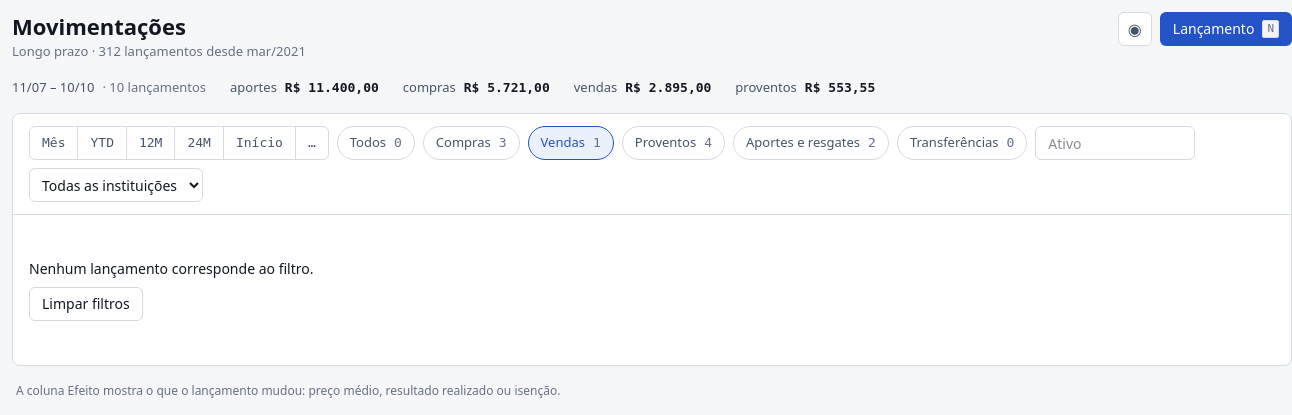
Test case: tela de Movimentações › recorte vazio por filtro oferece limpar; vazio sem filtro não
This screenshot has width=1292, height=415.
Expected: the text "Nenhum lançamento corresponde ao filtro." is shown, [29, 259, 314, 279]
Click the button "Limpar filtros": (86, 304) [29, 287, 143, 321]
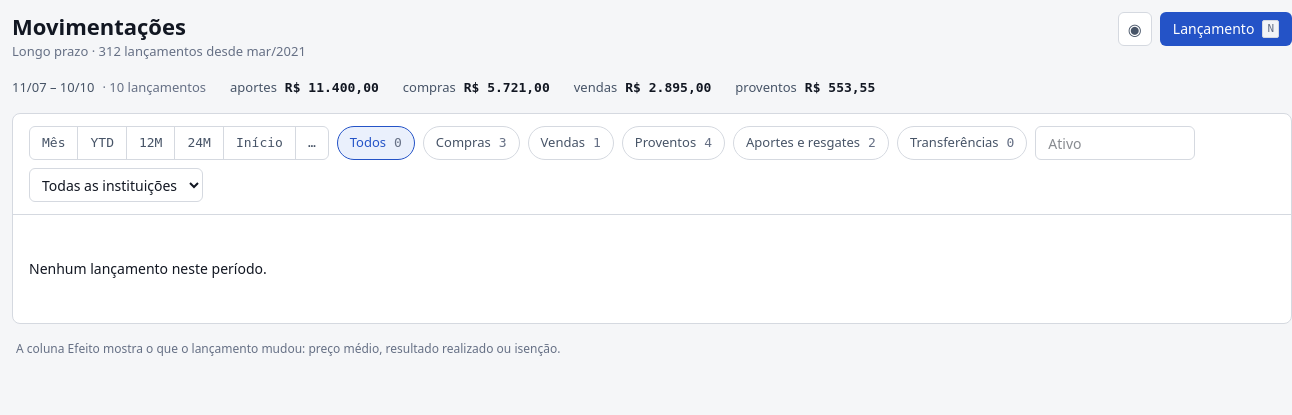
Expected: the text "Nenhum lançamento neste período." is shown, [29, 259, 267, 279]
